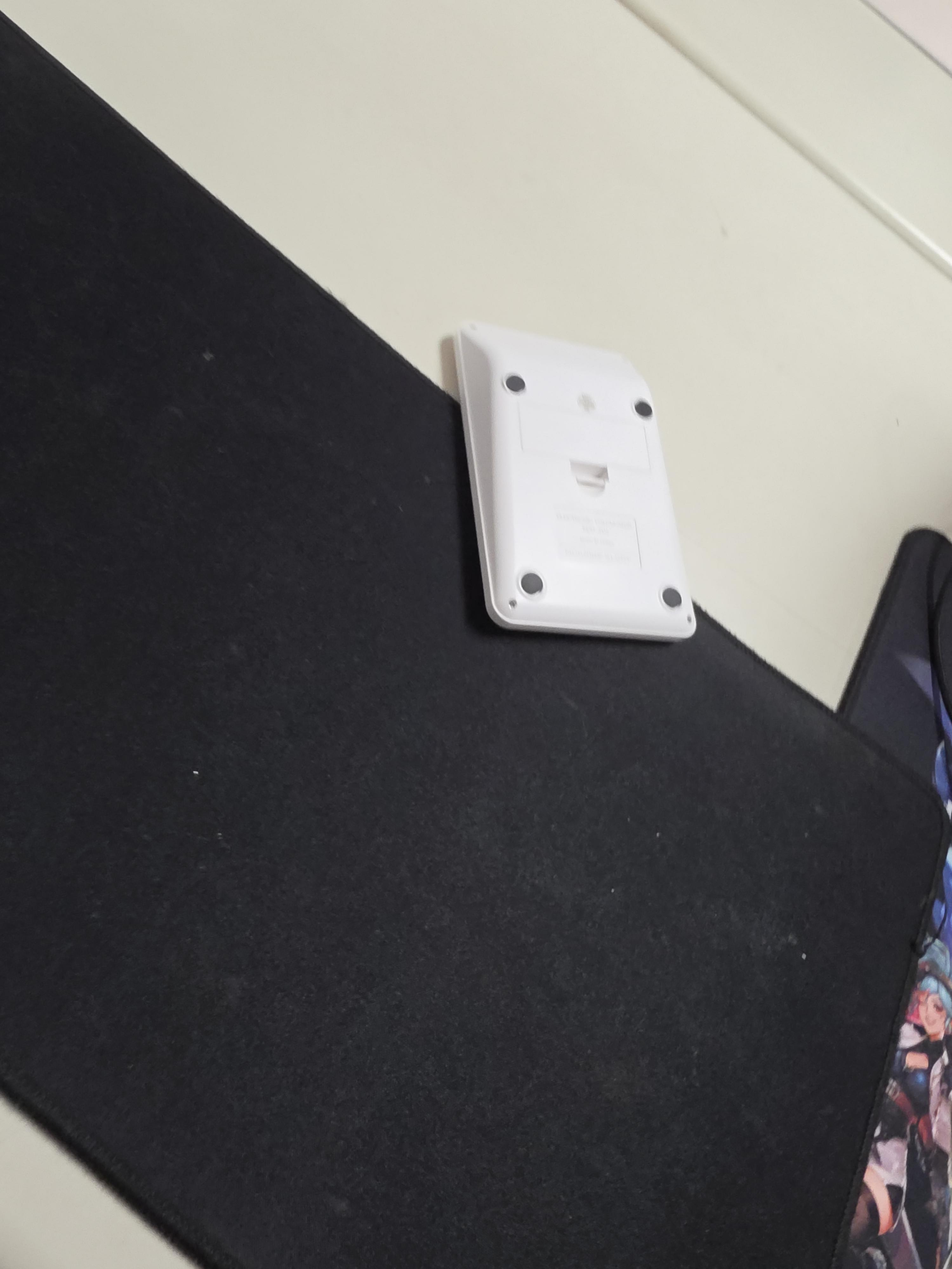calculator: (453, 320, 698, 644)
